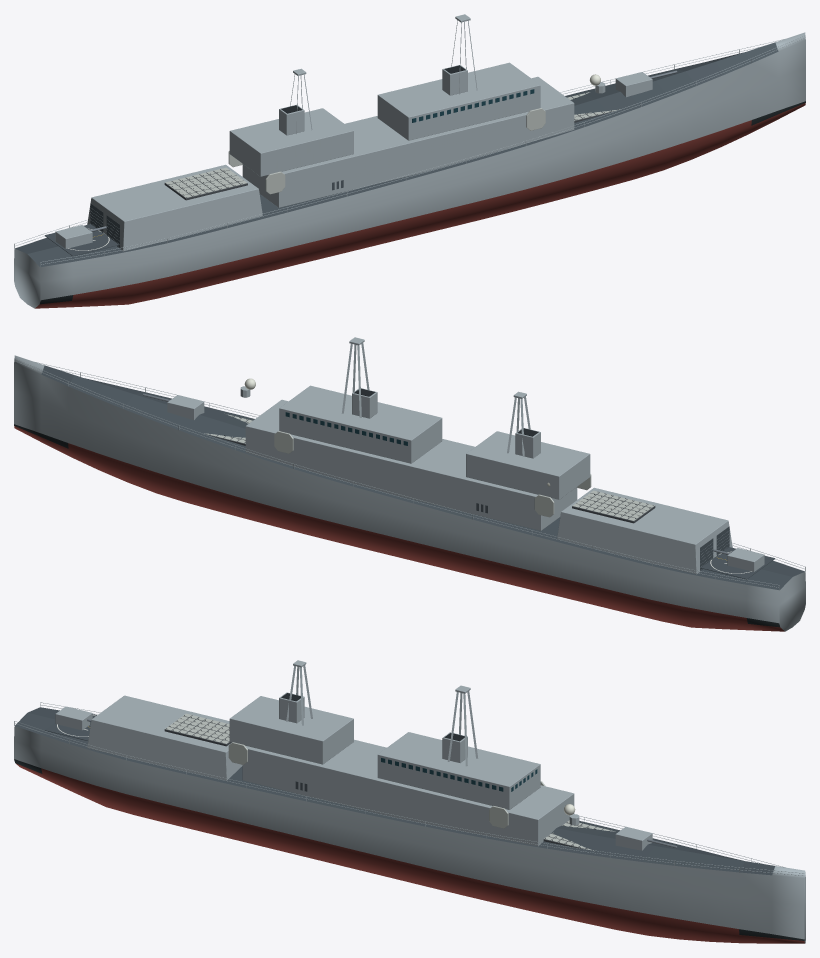
File: usn_cg_ticonderoga.glb
The picture shows the model from 3 angles, top to bottom: view 1: azimuth 30°, elevation 25°; view 2: azimuth 150°, elevation 25°; view 3: azimuth 330°, elevation 25°; orthographic projection.
Parts seen in each view (by area): view 1: usn_cg_ticonderoga; view 2: usn_cg_ticonderoga; view 3: usn_cg_ticonderoga.
Boxes of the visible parts, x1=… form: usn_cg_ticonderoga: x1=14, y1=14, x2=805, y2=308; usn_cg_ticonderoga: x1=14, y1=337, x2=805, y2=631; usn_cg_ticonderoga: x1=14, y1=660, x2=805, y2=943.
Size of the model in its own units: 10 by 2.43 by 0.9597.
